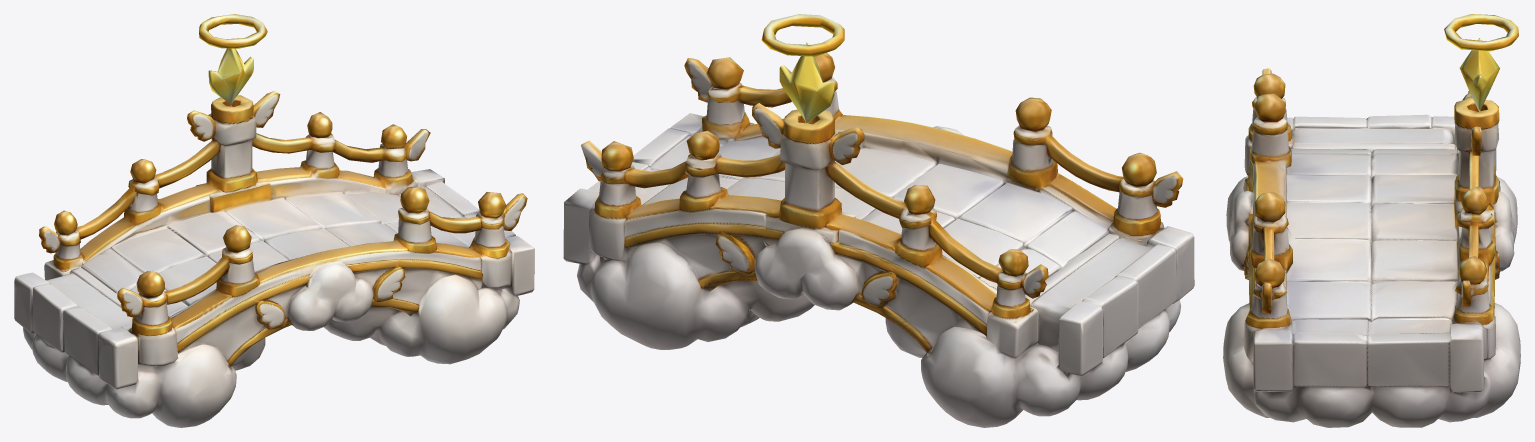
Rendered from Town_Halo_Bridge_HD.glb.
3 views of the same model, side by side, from view 1: azimuth 30°, elevation 25°; view 2: azimuth 150°, elevation 25°; view 3: azimuth 270°, elevation 25° (orthographic). The views are drawn at different scales.
Visible parts, largest first — view 1: tripo_node_d37e6cf1-23c4-42eb-97f5-d8a26a0ec7c8; view 2: tripo_node_d37e6cf1-23c4-42eb-97f5-d8a26a0ec7c8; view 3: tripo_node_d37e6cf1-23c4-42eb-97f5-d8a26a0ec7c8.
Part boxes in pixels (left/top/right/bottom): tripo_node_d37e6cf1-23c4-42eb-97f5-d8a26a0ec7c8: left=14, top=14, right=534, bottom=427; tripo_node_d37e6cf1-23c4-42eb-97f5-d8a26a0ec7c8: left=563, top=14, right=1194, bottom=427; tripo_node_d37e6cf1-23c4-42eb-97f5-d8a26a0ec7c8: left=1223, top=14, right=1520, bottom=427.
Size of the model in its own units: 0.9807 by 0.63 by 0.5317.
Materials: 1 (1 with a texture image).
